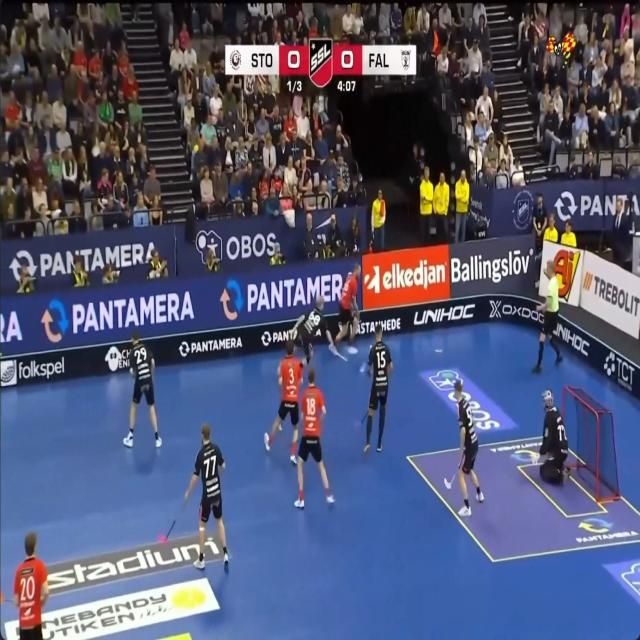player: (184, 424, 228, 569), (295, 368, 334, 509), (264, 339, 303, 463), (123, 333, 161, 447), (454, 380, 484, 516), (14, 531, 49, 639), (364, 323, 392, 453), (532, 260, 562, 371), (533, 390, 568, 484), (292, 295, 337, 363), (334, 263, 360, 354)
stick: (158, 514, 179, 542), (329, 343, 347, 360), (444, 474, 454, 488), (334, 350, 348, 360), (360, 410, 368, 426), (459, 453, 464, 469), (180, 499, 186, 512), (359, 363, 367, 372)
